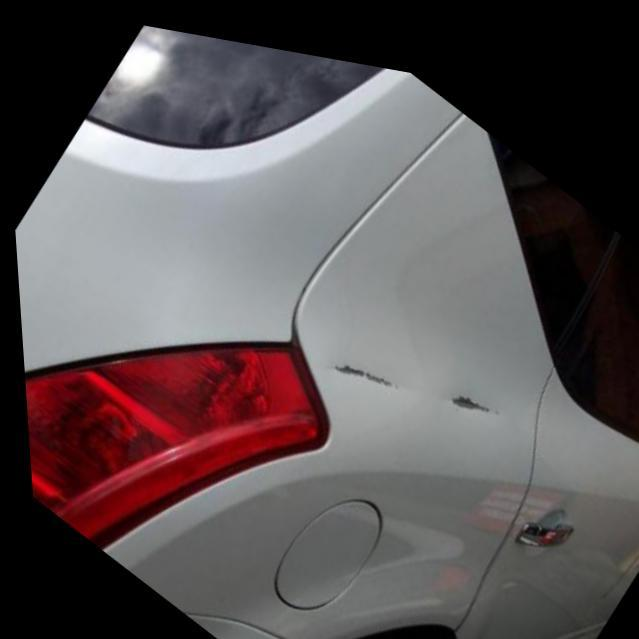crack: (437, 373, 502, 403), (330, 350, 394, 377)
